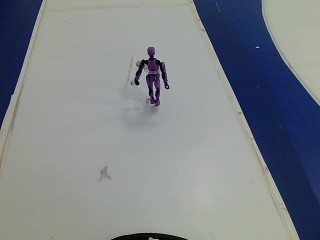pedestrian: (124, 41, 181, 113)
